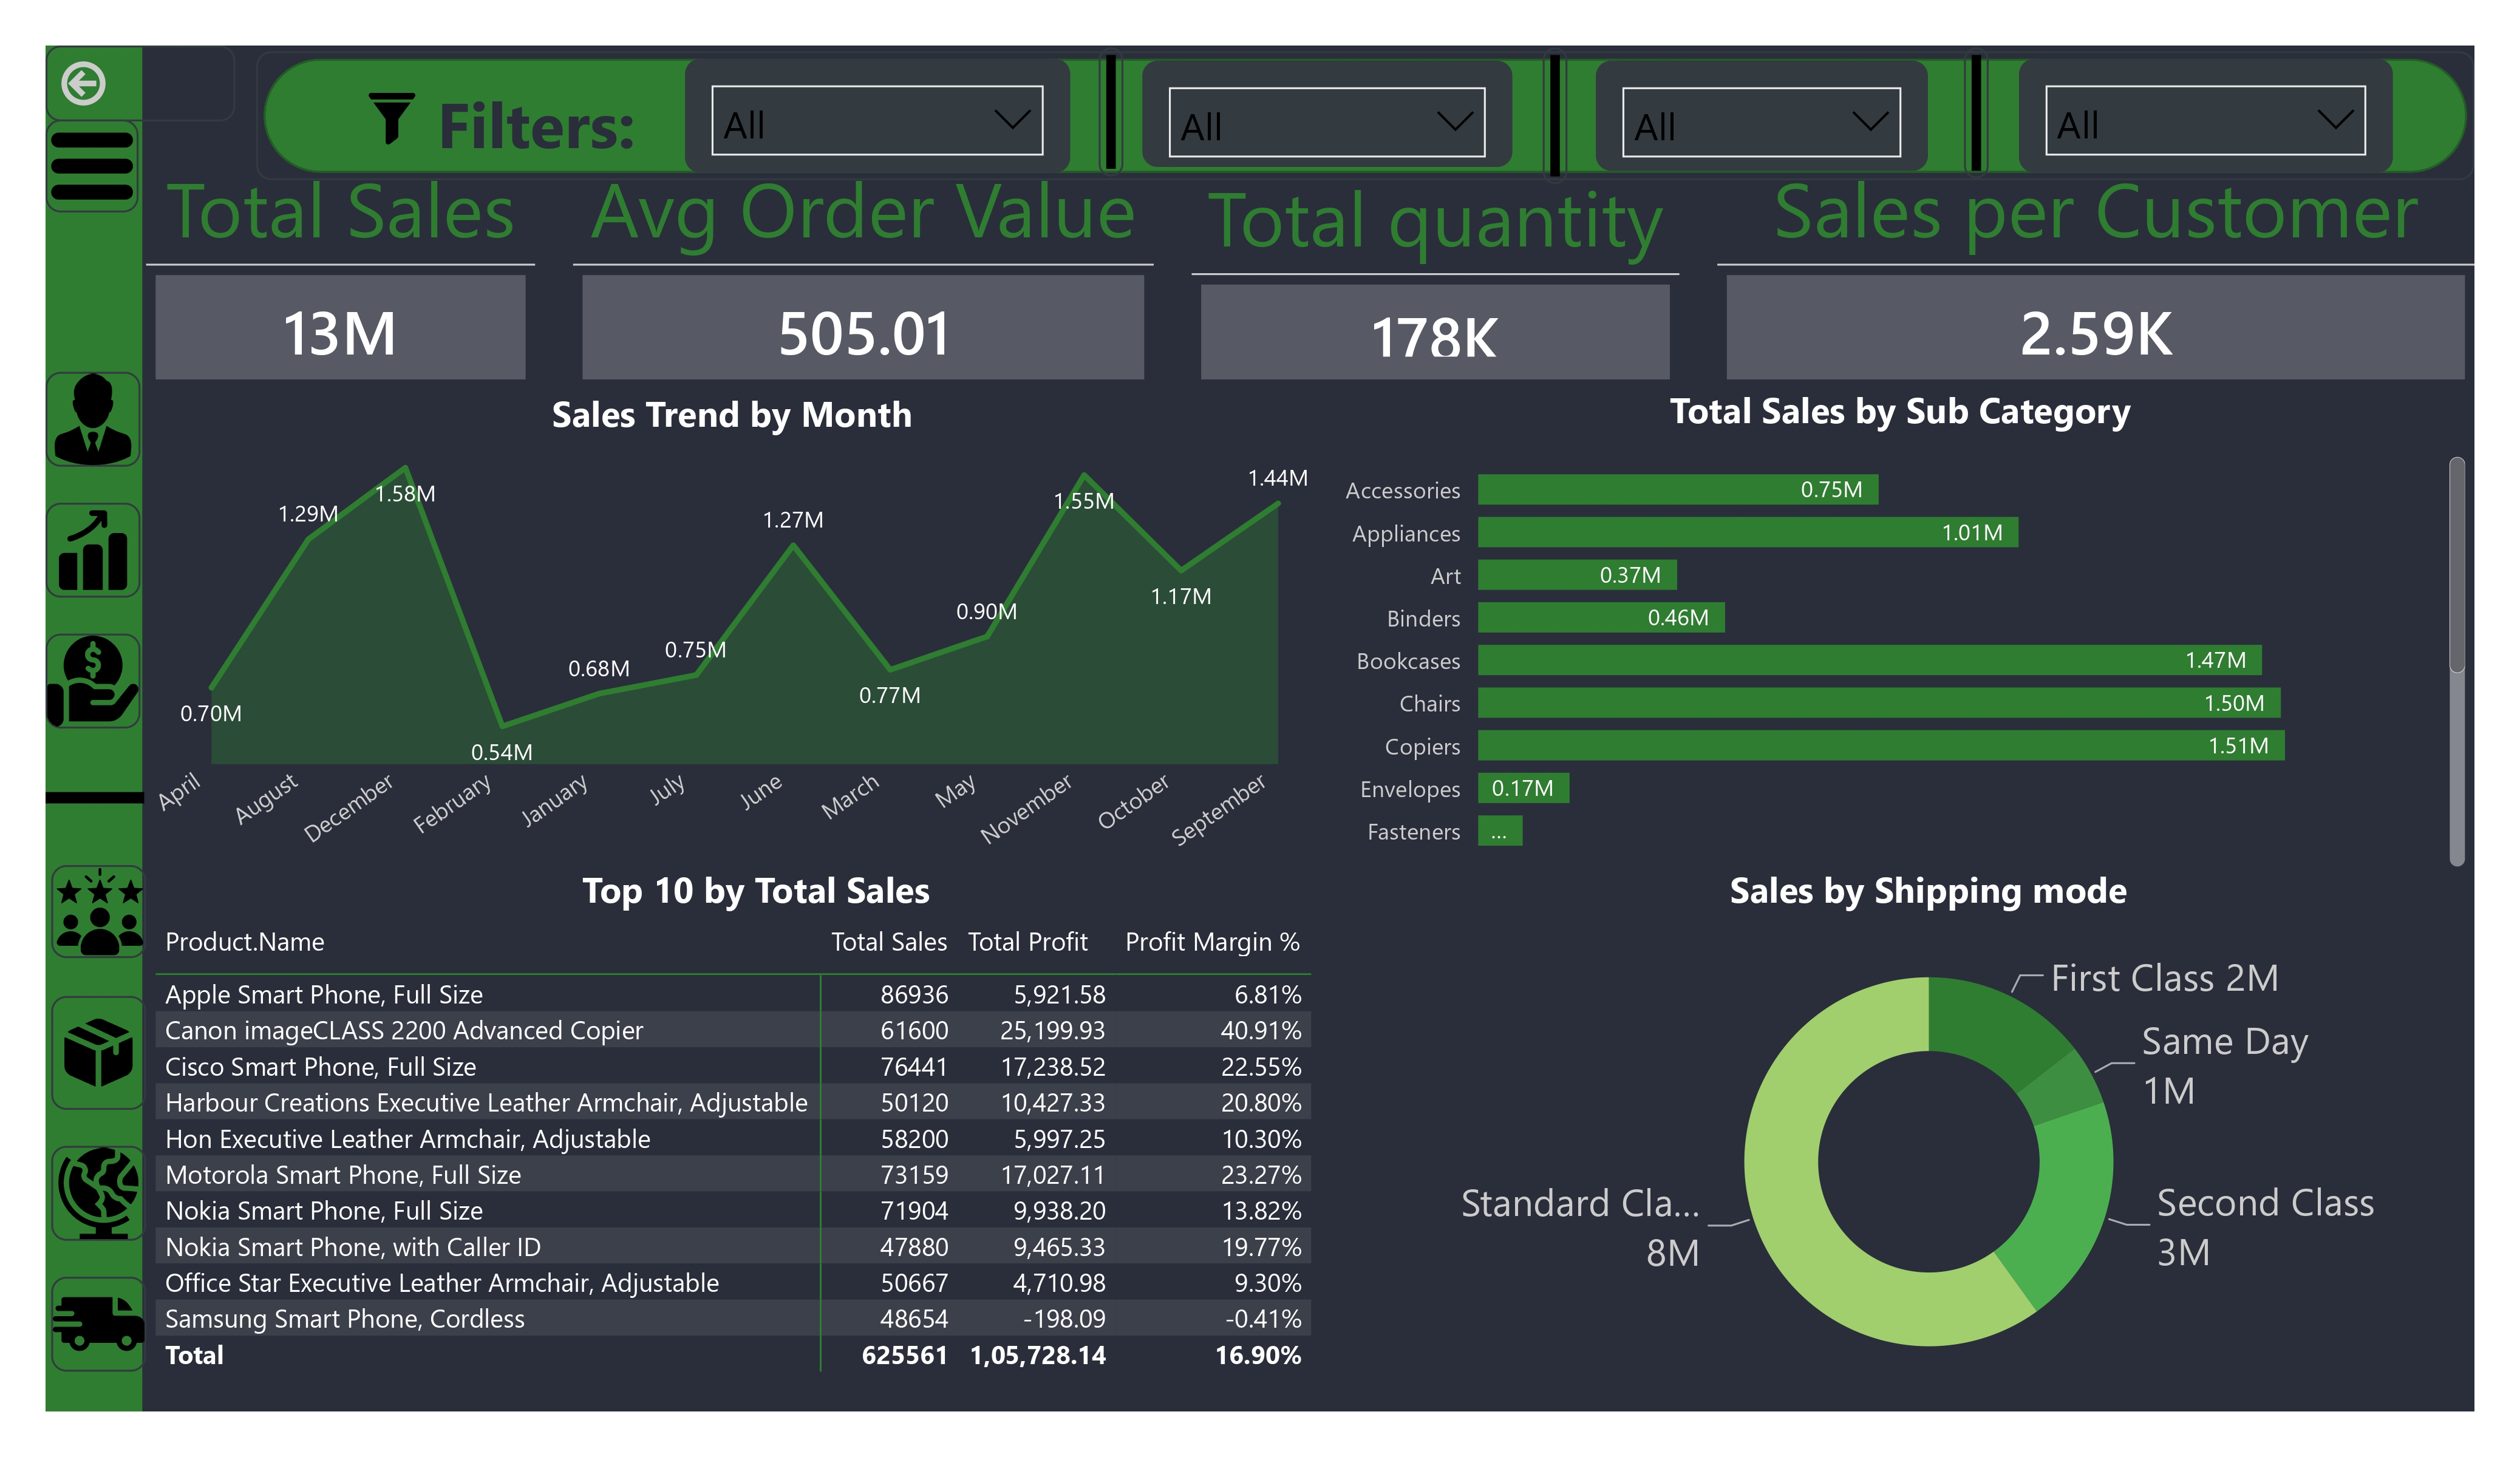

This screenshot's page, from the dashboard's own definition file:
{"tool":"powerbi","page":{"name":"Sales","canvas":[1280,720],"ordinal":2},"visuals":[{"type":"shape","box":[0,0,50.6,720.4],"z":0,"group":"g2"},{"type":"group","id":"g1","title":"title slicer","box":[110.9,0.8,1169.3,72],"z":0},{"type":"shape","box":[110.9,2.7,1169.3,67.7],"z":0,"group":"g1"},{"type":"group","id":"g2","title":"side bar collapsed","box":[0,0,52.7,720.4],"z":1000},{"type":"slicer","fields":{"Values":["orders.Ship.Mode"]},"box":[337,7.3,203,59],"z":1000,"group":"g1"},{"type":"image","box":[0,241.4,49.8,49.8],"z":1000,"group":"g2"},{"type":"slicer","fields":{"Values":["DateTable.Year"]},"box":[816.5,8.1,175.7,57.6],"z":2000,"group":"g1"},{"type":"cardVisual","title":"Total Sales","fields":{"Data":["_Measures.Total Sales"]},"box":[53.3,57.6,204.5,123.8],"z":2000},{"type":"image","box":[0,310.5,49.8,49.8],"z":2000,"group":"g2"},{"type":"slicer","fields":{"Values":["orders.Order.Priority"]},"box":[1039.7,7.3,197.3,59],"z":3000,"group":"g1"},{"type":"cardVisual","title":"Avg Order Value","fields":{"Data":["_Measures.Avg Order Value"]},"box":[278.4,57.6,305.3,123.8],"z":3000},{"type":"image","box":[3,431.6,49.8,49.8],"z":3000,"group":"g2"},{"type":"shape","box":[187.4,11.2,141.6,56.6],"z":4000,"group":"g1"},{"type":"cardVisual","title":"Total quantity","fields":{"Data":["_Measures.Total Quantity"]},"box":[604.3,63.4,256.3,118.1],"z":4000},{"type":"image","box":[3,500.6,49.8,60],"z":4000,"group":"g2"},{"type":"shape","box":[789.3,0.8,13,72],"z":5000,"group":"g1"},{"type":"cardVisual","title":"Sales per Customer","fields":{"Data":["_Measures.Sales per Customer"]},"box":[881.1,57.6,398.9,123.8],"z":5000},{"type":"image","box":[3,579.9,49.8,49.8],"z":5000,"group":"g2"},{"type":"image","box":[168.7,21.2,27.4,34.6],"z":6000,"group":"g1"},{"type":"image","box":[0,38.7,49.1,49.1],"z":6000,"group":"g2"},{"type":"areaChart","title":"Sales Trend by Month","fields":{"Category":["DateTable.Month Name"],"Y":["_Measures.Total Sales"]},"box":[49,181.4,626.4,263.5],"z":6000},{"type":"slicer","fields":{"Values":["orders.Segment"]},"box":[577.5,8.1,195.8,56.2],"z":7000,"group":"g1"},{"type":"image","box":[0,172.4,49.8,49.8],"z":7000,"group":"g2"},{"type":"donutChart","title":"Sales by Shipping mode","fields":{"Y":["_Measures.Total Sales"],"Category":["orders.Ship.Mode"]},"box":[738.7,432,506.9,288],"z":7000},{"type":"shape","box":[554.6,1.1,13,67.7],"z":8000,"group":"g1"},{"type":"barChart","title":"Total Sales by Sub Category","fields":{"Category":["orders.Sub.Category"],"Y":["_Measures.Total Sales"]},"box":[675.4,178.6,604.8,259.2],"z":8000},{"type":"shape","box":[0,385.5,52.1,22.3],"z":8000,"group":"g2"},{"type":"shape","box":[1011.1,1.1,13,69.1],"z":9000,"group":"g1"},{"type":"pivotTable","title":"Top 10 by Total Sales","fields":{"Values":["_Measures.Total Sales","_Measures.Total Profit","_Measures.Profit Margin %"],"Rows":["orders.Product.Name"]},"box":[53.3,432,642.2,285.1],"z":9000},{"type":"image","box":[3,648.9,49.8,49.8],"z":9000,"group":"g2"},{"type":"actionButton","box":[0,0,100,40],"z":11000}]}

Visuals, with their boxes on the page's 1280x720 design canvas (x1, y1, x2, y2). These are canvas units, not pixel positions in the 2520x1457 screenshot, which may show the page scaled, cropped or inside an application window:
shape: detection(0, 0, 51, 720)
"title slicer" group: detection(111, 1, 1280, 73)
shape: detection(111, 3, 1280, 70)
"side bar collapsed" group: detection(0, 0, 53, 720)
slicer - orders.Ship.Mode: detection(337, 7, 540, 66)
image: detection(0, 241, 50, 291)
slicer - DateTable.Year: detection(816, 8, 992, 66)
"Total Sales" cardVisual: detection(53, 58, 258, 181)
image: detection(0, 310, 50, 360)
slicer - orders.Order.Priority: detection(1040, 7, 1237, 66)
"Avg Order Value" cardVisual: detection(278, 58, 584, 181)
image: detection(3, 432, 53, 481)
shape: detection(187, 11, 329, 68)
"Total quantity" cardVisual: detection(604, 63, 861, 182)
image: detection(3, 501, 53, 561)
shape: detection(789, 1, 802, 73)
"Sales per Customer" cardVisual: detection(881, 58, 1280, 181)
image: detection(3, 580, 53, 630)
image: detection(169, 21, 196, 56)
image: detection(0, 39, 49, 88)
"Sales Trend by Month" areaChart: detection(49, 181, 675, 445)
slicer - orders.Segment: detection(578, 8, 773, 64)
image: detection(0, 172, 50, 222)
"Sales by Shipping mode" donutChart: detection(739, 432, 1246, 720)
shape: detection(555, 1, 568, 69)
"Total Sales by Sub Category" barChart: detection(675, 179, 1280, 438)
shape: detection(0, 386, 52, 408)
shape: detection(1011, 1, 1024, 70)
"Top 10 by Total Sales" pivotTable: detection(53, 432, 696, 717)
image: detection(3, 649, 53, 699)
actionButton: detection(0, 0, 100, 40)
